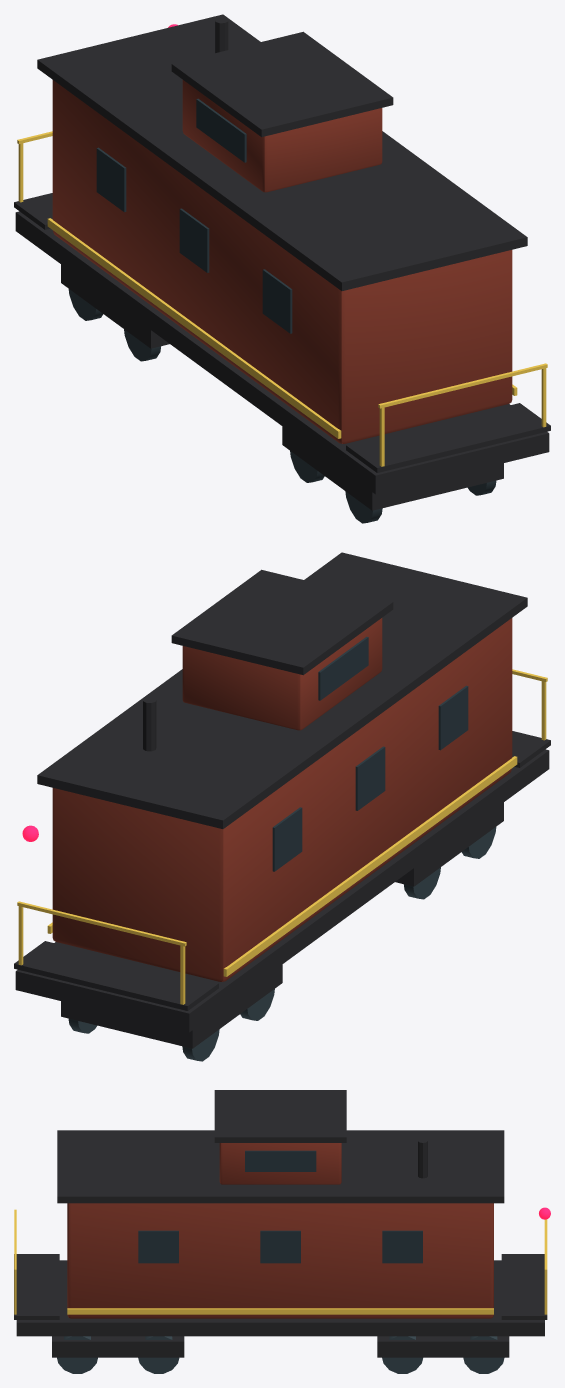
The model's file is roadevents_train_caboose.glb.
3 renders of one model, top to bottom at view 1: azimuth 30°, elevation 25°; view 2: azimuth 150°, elevation 25°; view 3: azimuth 270°, elevation 25°, orthographic. The views are drawn at different scales.
Visible parts, largest first — view 1: TrainCaboose; view 2: TrainCaboose; view 3: TrainCaboose.
Boxes of the visible parts, x1=… form: TrainCaboose: x1=14, y1=14, x2=550, y2=523; TrainCaboose: x1=14, y1=552, x2=550, y2=1061; TrainCaboose: x1=14, y1=1090, x2=550, y2=1373.
Bounding box in the file's own units: 3.1 × 5.17 × 10.57.
